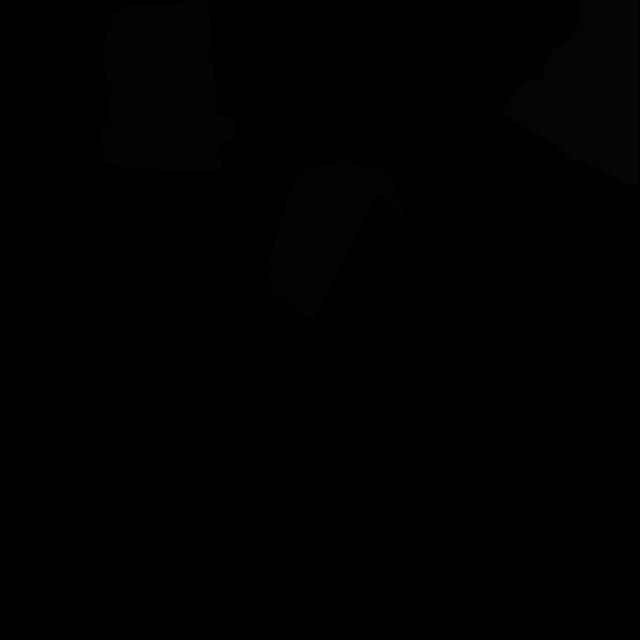cardboard: (98, 0, 237, 173), (266, 157, 405, 323)
soft_plastic: (502, 0, 639, 186)
